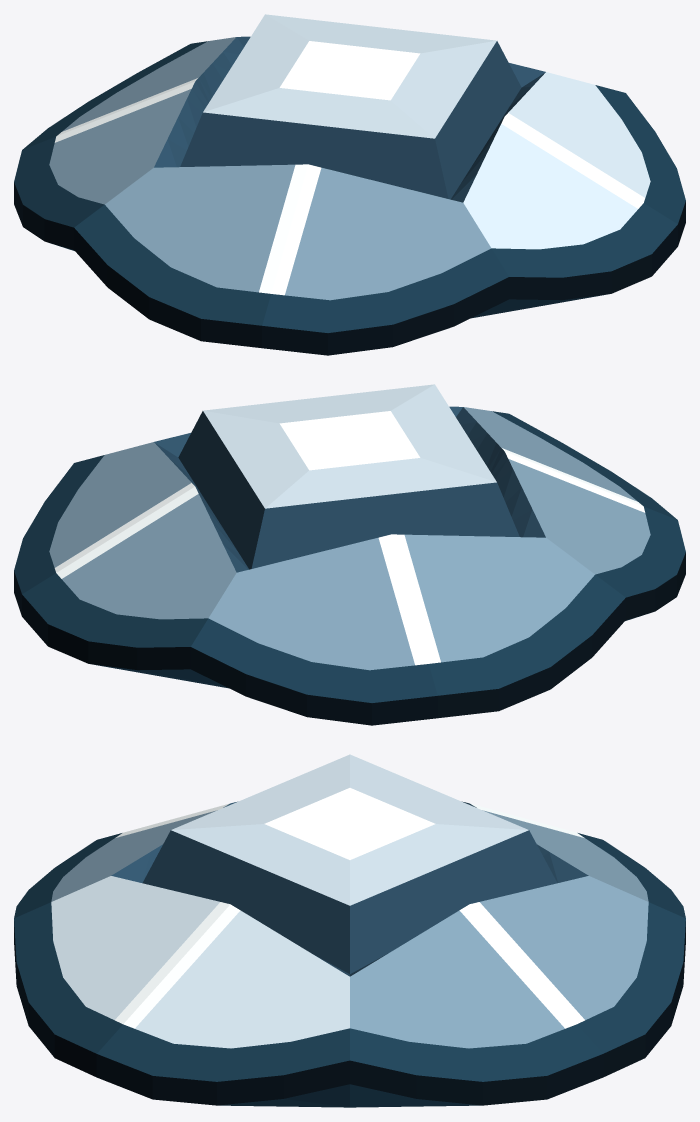
Rendered from facet_orb.glb.
The picture shows the model from 3 angles, top to bottom: view 1: azimuth 30°, elevation 25°; view 2: azimuth 150°, elevation 25°; view 3: azimuth 270°, elevation 25°; orthographic projection. The views are drawn at different scales.
Parts seen in each view (by area): view 1: facet_orb; view 2: facet_orb; view 3: facet_orb.
Part boxes in pixels (left/top/right/bottom): facet_orb: left=14, top=14, right=685, bottom=355; facet_orb: left=14, top=384, right=685, bottom=725; facet_orb: left=14, top=754, right=685, bottom=1107.
Size of the model in its own units: 18 by 8.55 by 18.
